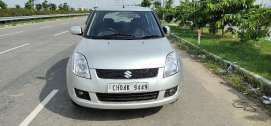license_plate: (107, 83, 149, 92)
